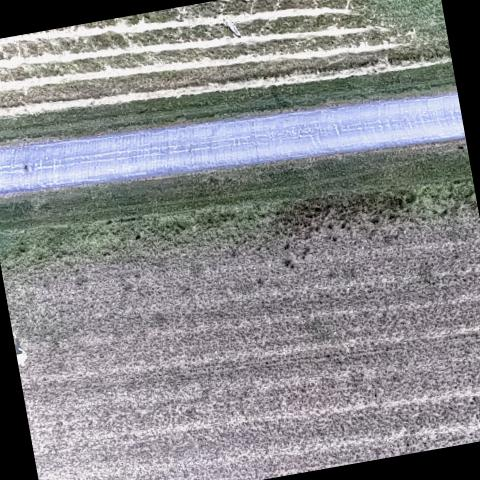person: (12, 328, 31, 369)
